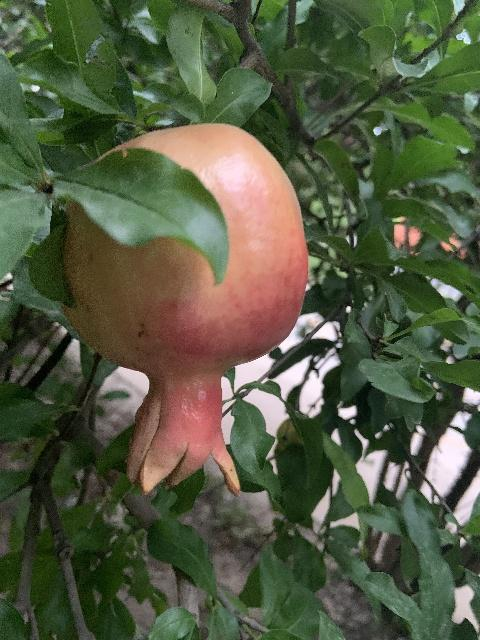ripe: (62, 122, 309, 498)
